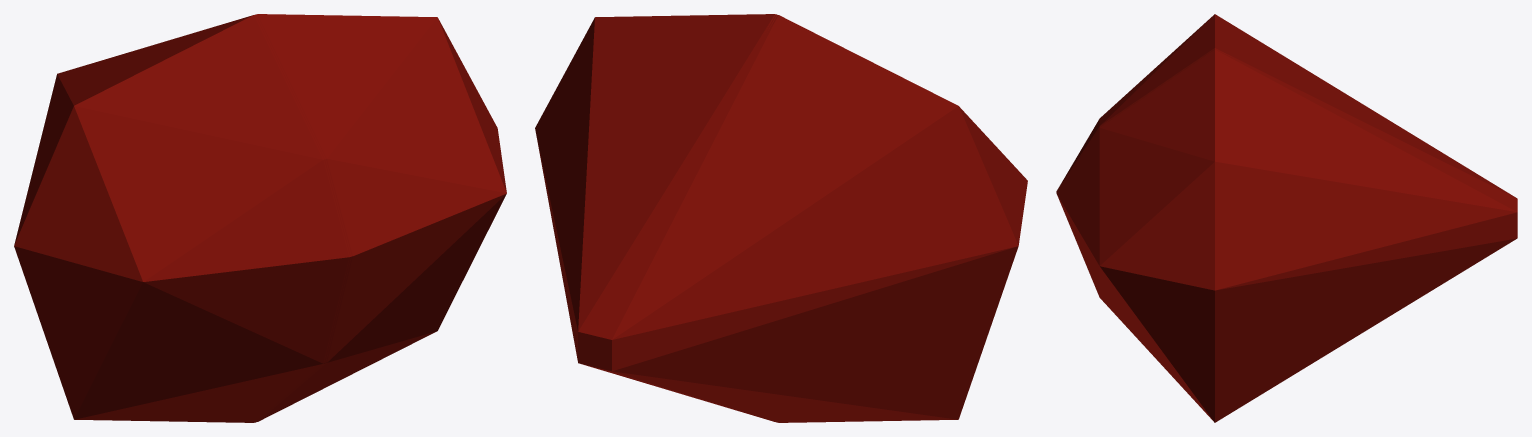
File: model_3015_spotanim.obj
3 renders of one model, left to right at view 1: azimuth 30°, elevation 25°; view 2: azimuth 150°, elevation 25°; view 3: azimuth 270°, elevation 25°, orthographic. The views are drawn at different scales.
Parts seen in each view (by area): view 1: 3015; view 2: 3015; view 3: 3015.
Boxes of the visible parts, box(x1,y1,x2,y2) form: 3015: box(14, 14, 506, 422); 3015: box(535, 14, 1027, 422); 3015: box(1056, 14, 1517, 422).
Bounding box in the file's own units: 258 × 208 × 256.
